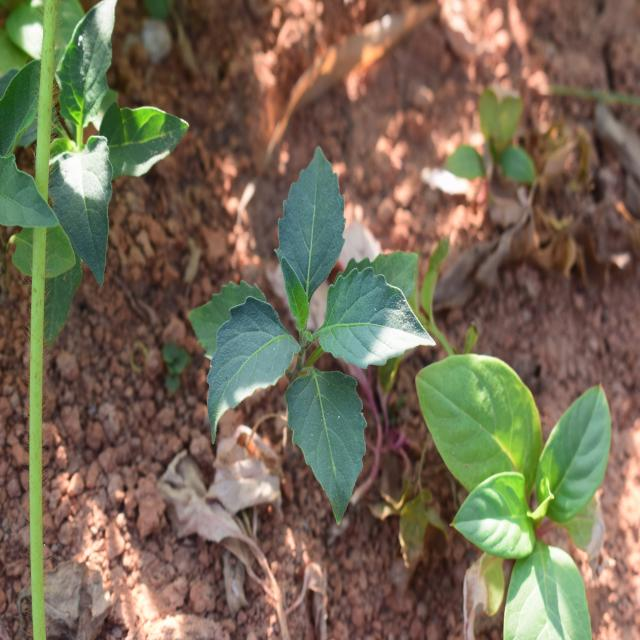Black_nightshade: (216, 160, 408, 510), (0, 8, 168, 274)
